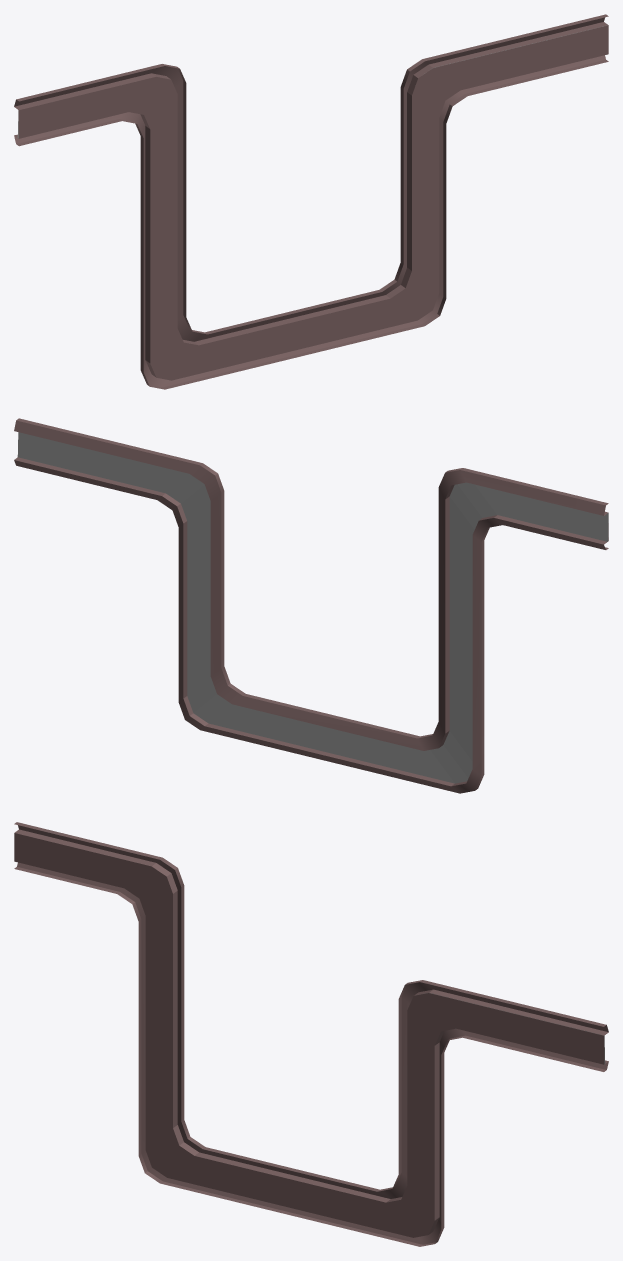
The model's file is ligne_technologique_B1_salle2.fbx.
3 views of the same model, one above another, from view 1: azimuth 30°, elevation 25°; view 2: azimuth 150°, elevation 25°; view 3: azimuth 330°, elevation 25° (orthographic).
Visible parts, largest first — view 1: ligne_techno_B2; view 2: ligne_techno_B2; view 3: ligne_techno_B2.
Part boxes in pixels (x1,y1,x2,y2): ligne_techno_B2: (14, 14, 608, 389); ligne_techno_B2: (14, 418, 608, 793); ligne_techno_B2: (14, 822, 608, 1246).
Bounding box in the file's own units: 454 × 238 × 6.71.
